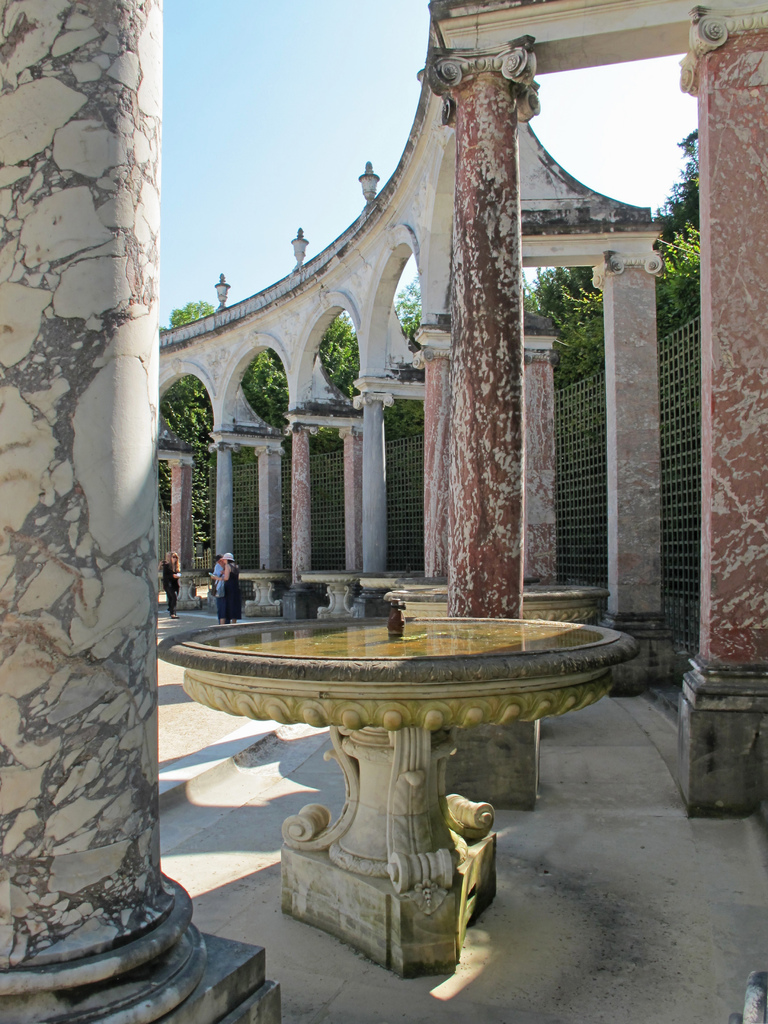Footwear: (172, 615, 175, 617)
